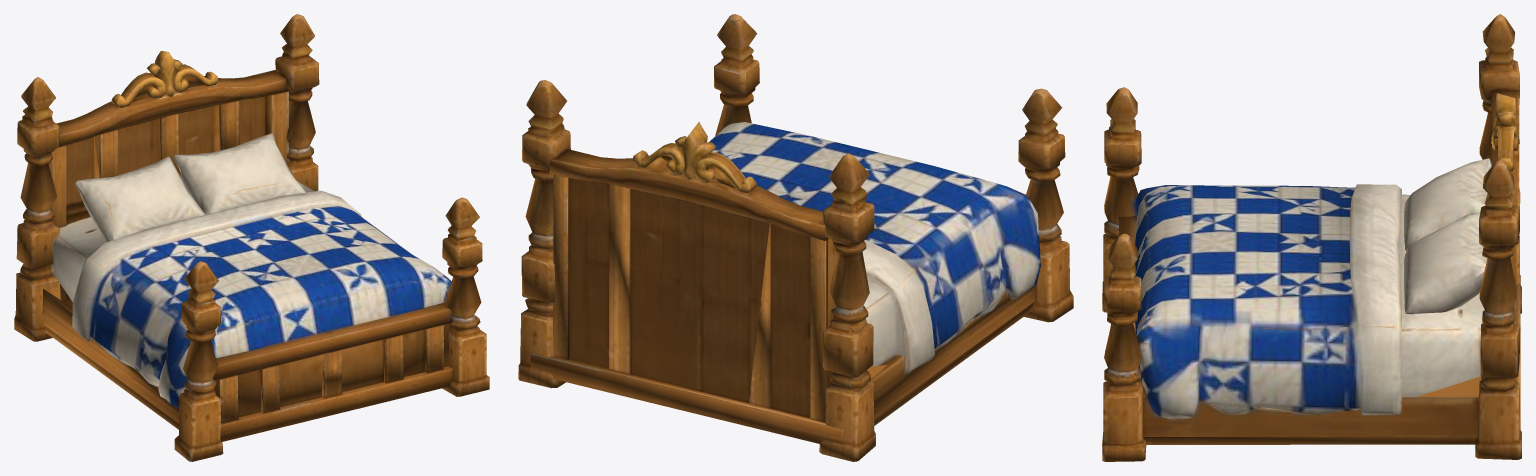
File: bed_large.glb
The picture shows the model from 3 angles, left to right: view 1: azimuth 30°, elevation 25°; view 2: azimuth 150°, elevation 25°; view 3: azimuth 270°, elevation 25°; orthographic projection. The views are drawn at different scales.
Visible parts, largest first — view 1: kit-bed-large-1; view 2: kit-bed-large-1; view 3: kit-bed-large-1.
Part boxes in pixels (box(x1,y1,x2,y2)): kit-bed-large-1: box(14, 14, 489, 461); kit-bed-large-1: box(518, 14, 1073, 461); kit-bed-large-1: box(1102, 14, 1521, 461).
Bounding box in the file's own units: 2.09 × 1.69 × 2.2.
Materials: 1 (1 with a texture image).
